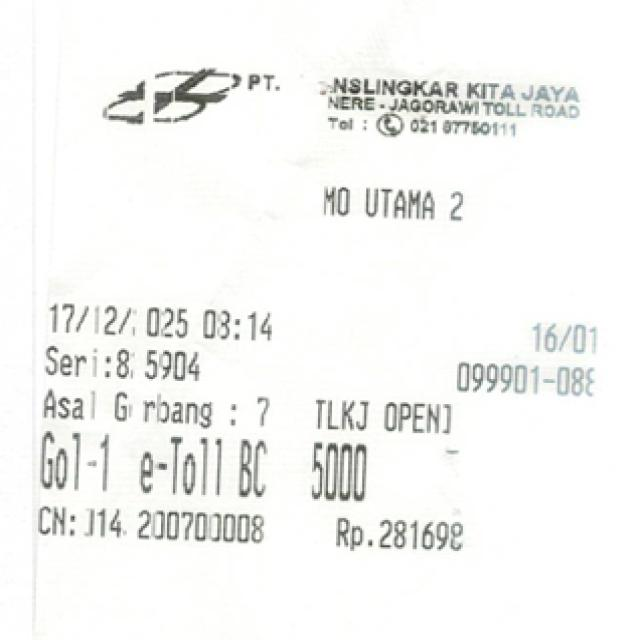date: (48, 294, 278, 346)
store: (239, 71, 592, 121)
total: (307, 434, 378, 505)
